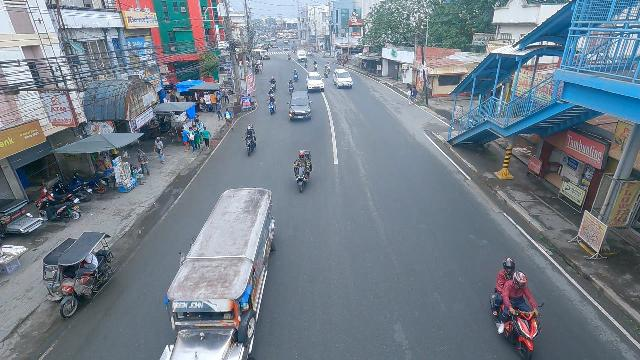car: (332, 68, 352, 90), (306, 71, 324, 93), (272, 42, 278, 48), (283, 46, 290, 51)
jeepney: (161, 183, 276, 360), (253, 48, 269, 60)
motorcycle: (291, 148, 314, 194), (242, 123, 259, 157), (266, 93, 278, 117), (288, 79, 295, 94), (270, 77, 276, 92), (293, 69, 299, 83), (323, 65, 330, 77), (313, 60, 318, 71), (326, 63, 331, 74), (304, 60, 308, 68), (287, 54, 291, 61)
van: (289, 90, 313, 122)
